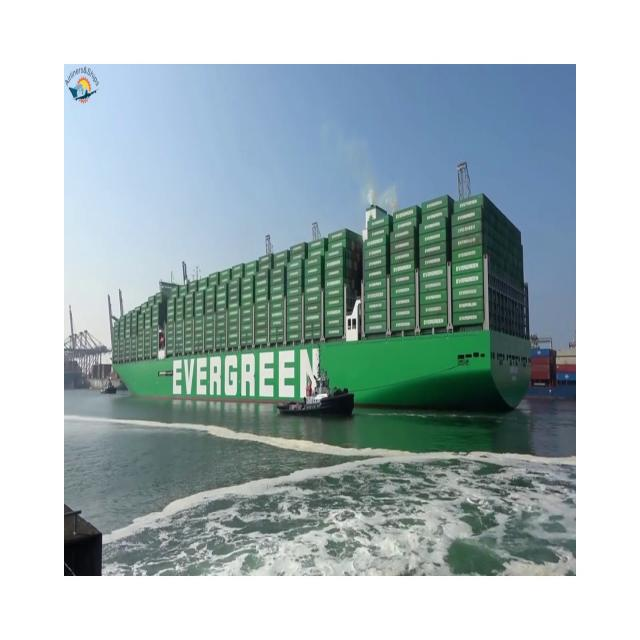OCR: (168, 333, 325, 420)
